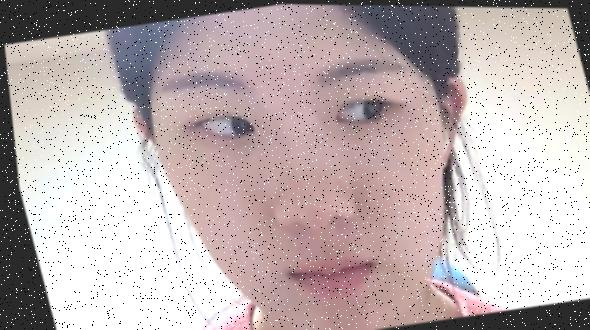eye: (357, 89, 394, 121), (225, 108, 260, 138)
iris: (327, 93, 394, 128), (197, 109, 253, 141)
